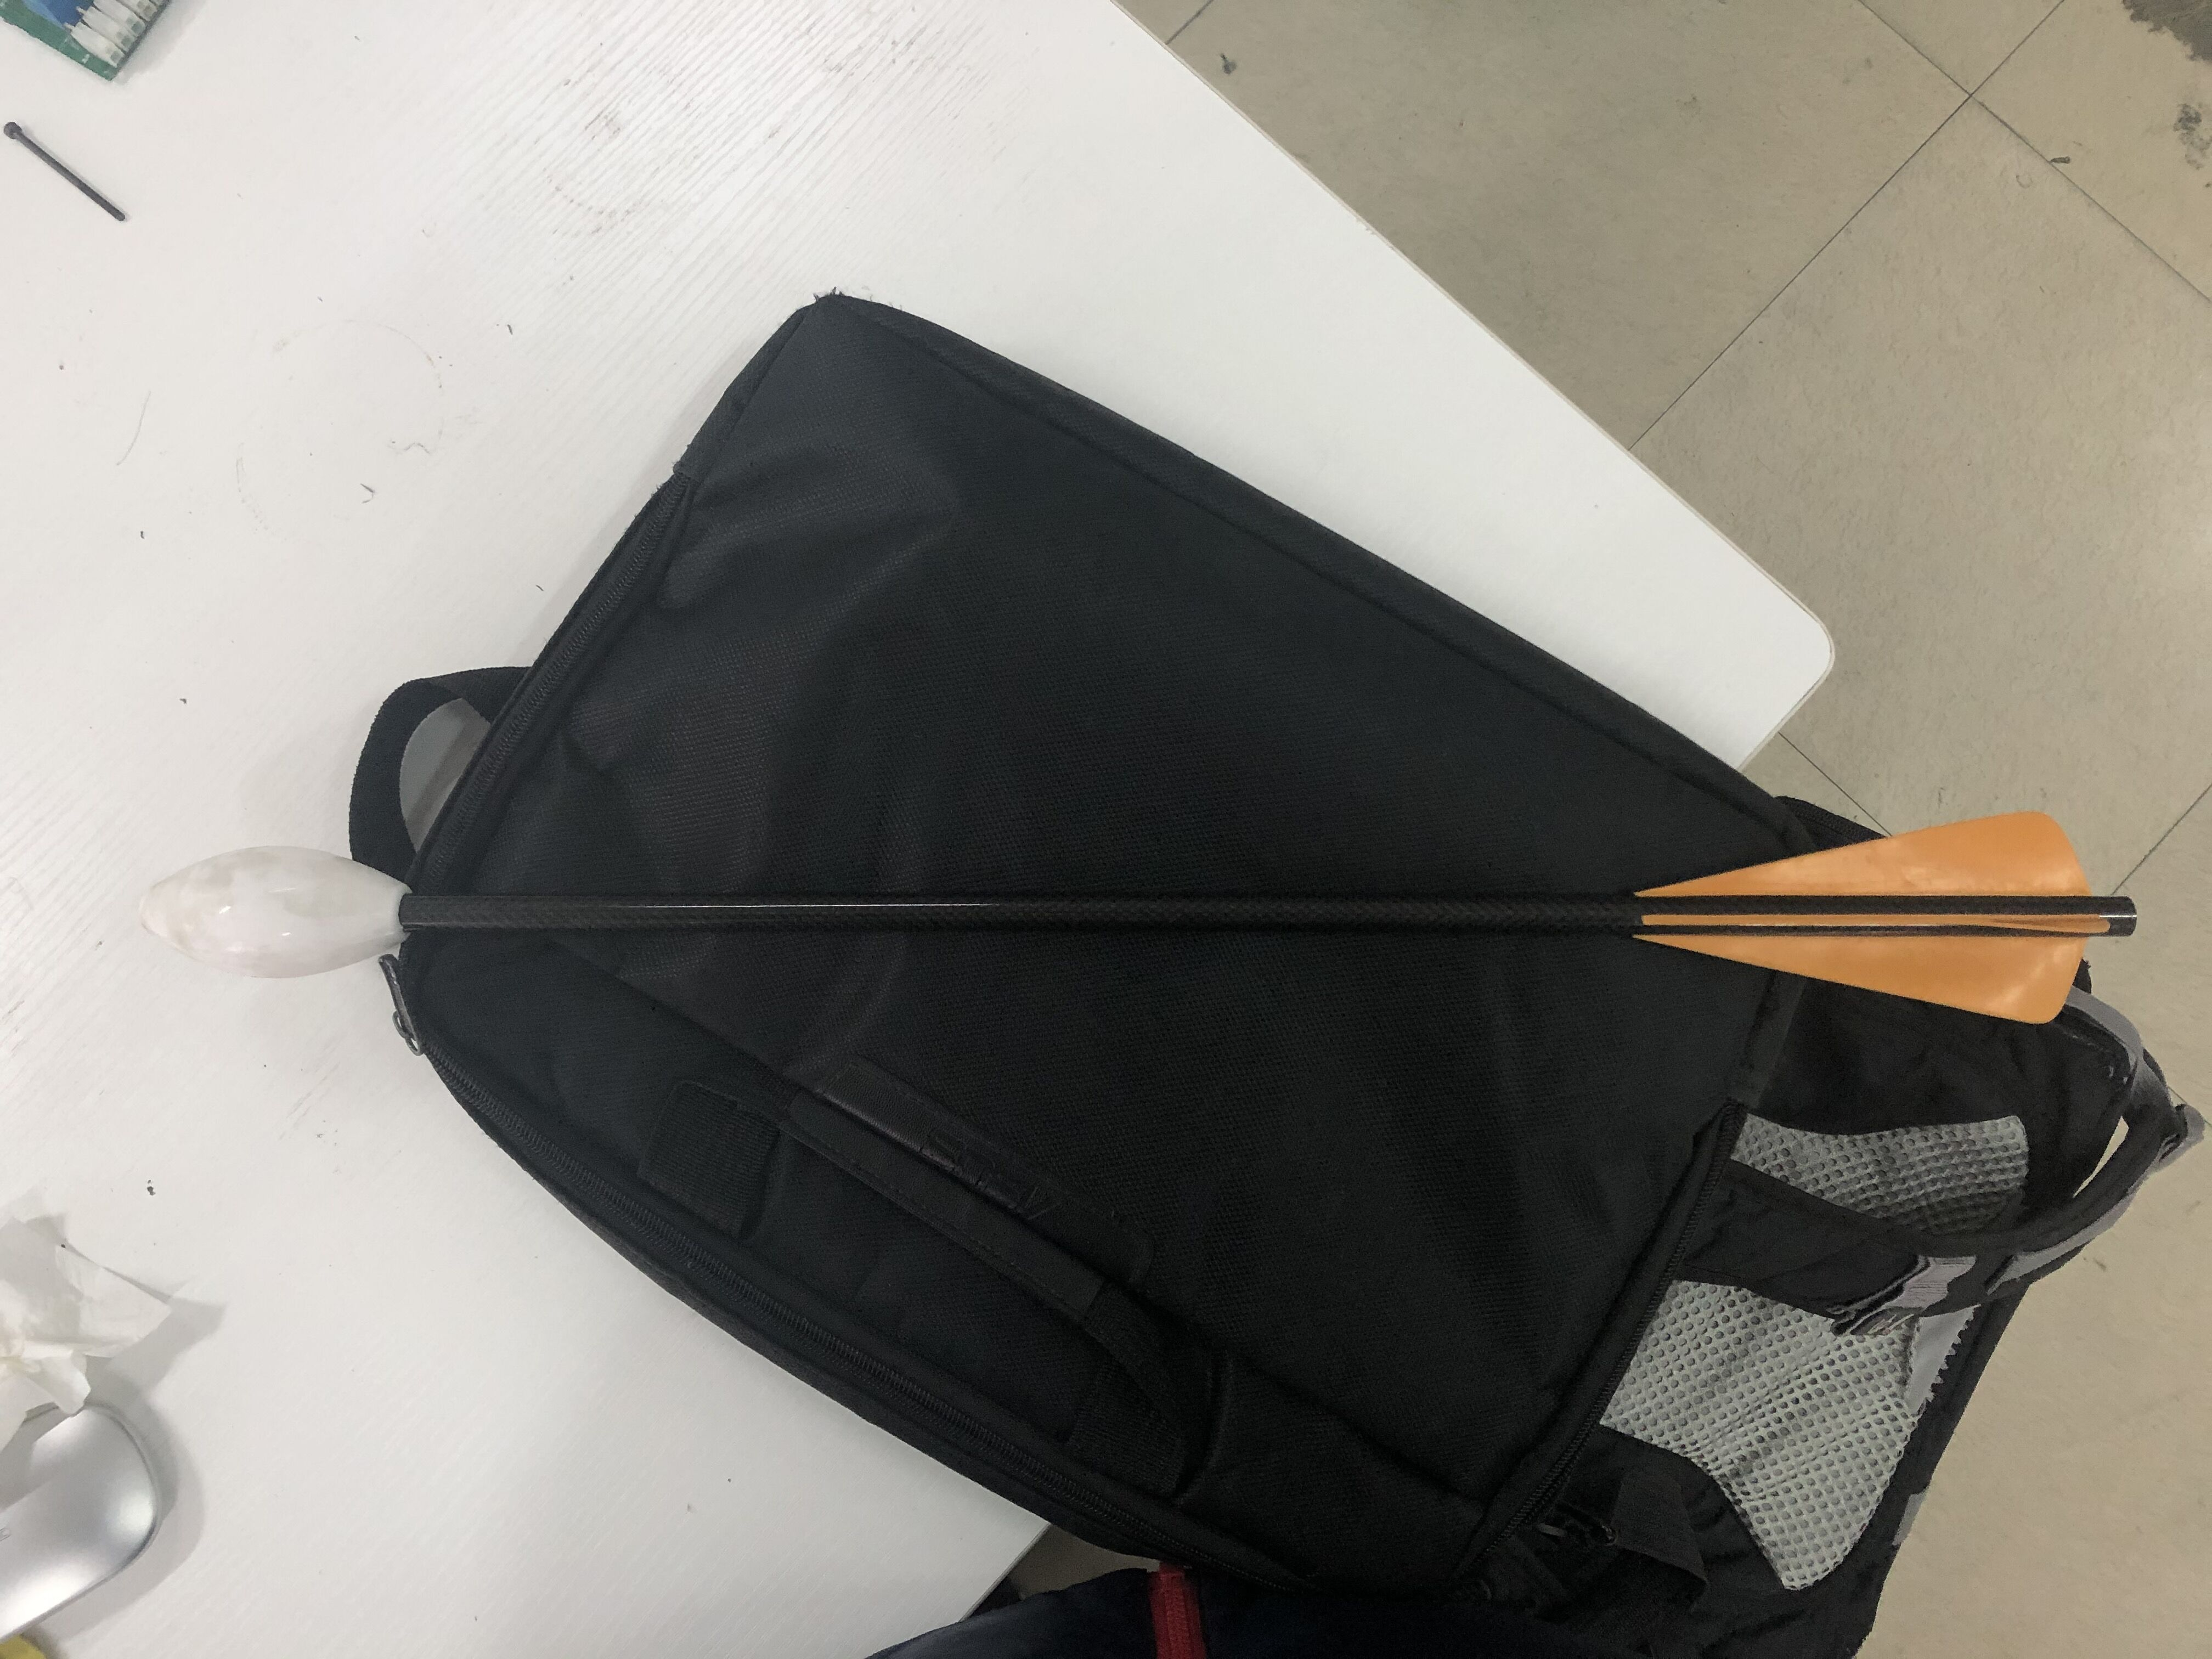arrow: (131, 805, 2142, 1030)
arrowFront: (143, 842, 416, 985)
